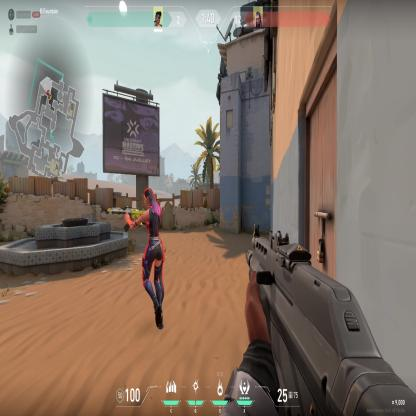enemy: (123, 187, 168, 332)
